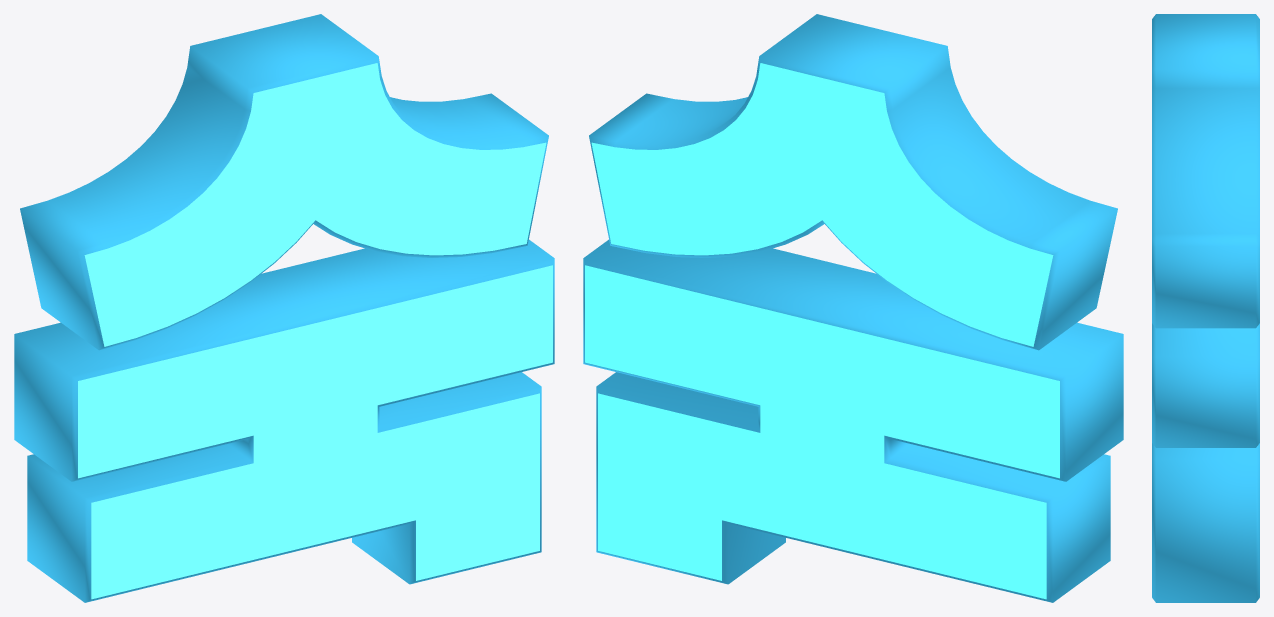
3 renders of one model, left to right at view 1: azimuth 30°, elevation 25°; view 2: azimuth 150°, elevation 25°; view 3: azimuth 270°, elevation 25°, orthographic. The views are drawn at different scales.
Visible parts, largest first — view 1: glyph; view 2: glyph; view 3: glyph.
Boxes of the visible parts, x1=… form: glyph: x1=14, y1=14, x2=554, y2=602; glyph: x1=583, y1=14, x2=1123, y2=602; glyph: x1=1152, y1=14, x2=1259, y2=602.
Bounding box in the file's own units: 0.0726 × 0.077 × 0.0162.
